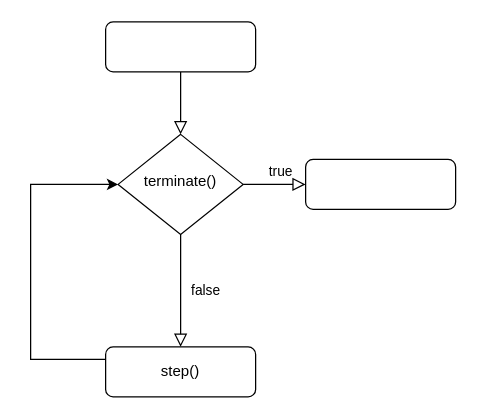
Image size: 478x419. Some labels were removed from this diagram. Each missing label, with the centre of its shape:
done(): (x=380, y=183)
init(): (x=180, y=46)
